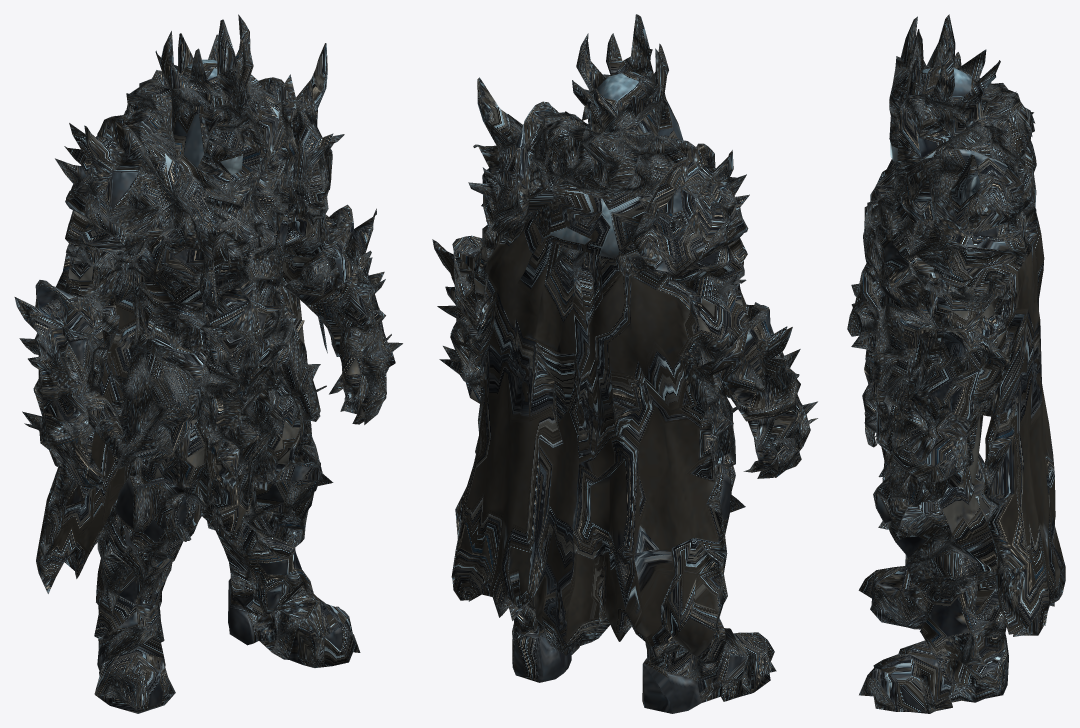
Rendered from frostbound_king.glb.
3 views of the same model, side by side, from view 1: azimuth 30°, elevation 25°; view 2: azimuth 150°, elevation 25°; view 3: azimuth 270°, elevation 25° (orthographic).
Visible parts, largest first — view 1: Mesh_0; view 2: Mesh_0; view 3: Mesh_0.
Part boxes in pixels (left/top/right/bottom): Mesh_0: left=14, top=14, right=402, bottom=713; Mesh_0: left=432, top=14, right=817, bottom=713; Mesh_0: left=847, top=14, right=1065, bottom=713.
Bounding box in the file's own units: 1.12 × 1.9 × 0.586.
1 material, 1 textured.
